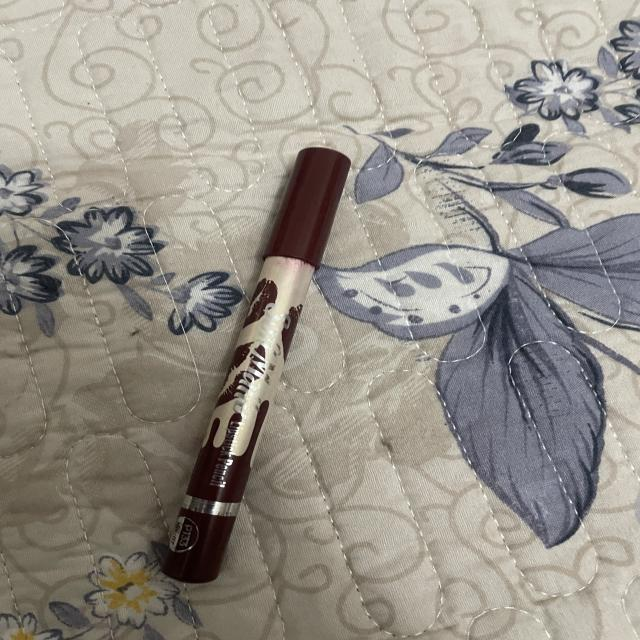lip liner: (166, 145, 352, 580)
